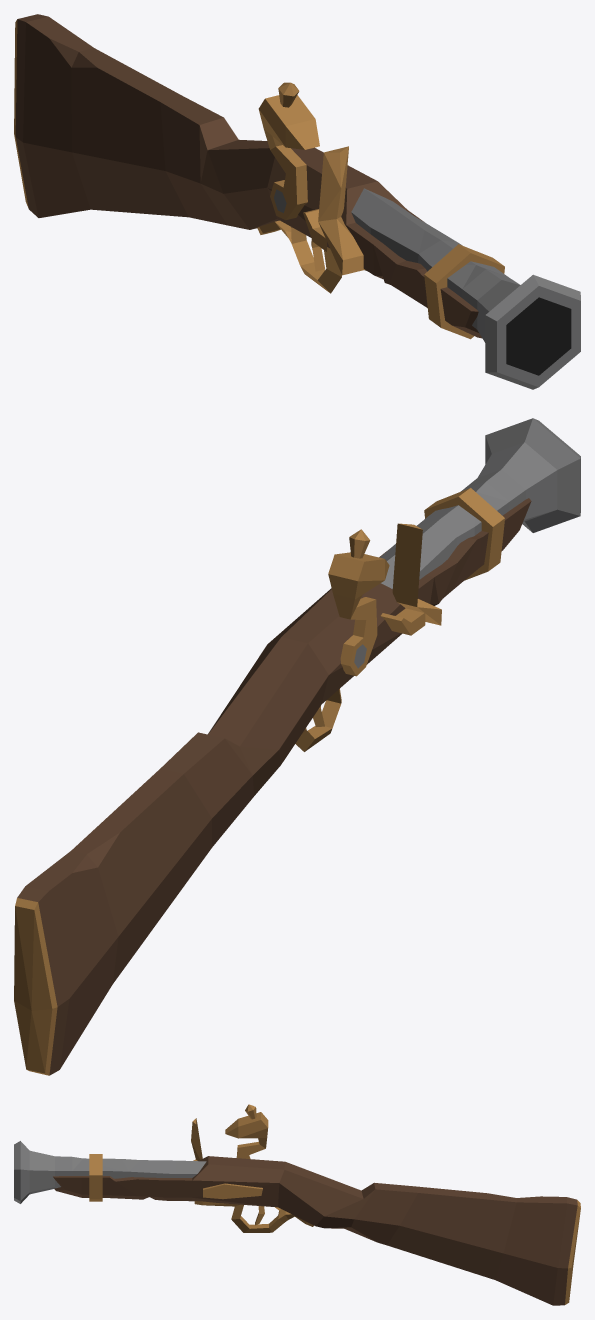
Rendered from SM_Wep_BlunderBuss_02_Separate.glb.
3 views of the same model, one above another, from view 1: azimuth 30°, elevation 25°; view 2: azimuth 150°, elevation 25°; view 3: azimuth 270°, elevation 25° (orthographic). The views are drawn at different scales.
Visible parts, largest first — view 1: SM_Wep_BlunderBuss_02_Trigger; view 2: SM_Wep_BlunderBuss_02_Trigger; view 3: SM_Wep_BlunderBuss_02_Trigger.
Part boxes in pixels (x1,y1,x2,y2): SM_Wep_BlunderBuss_02_Trigger: (14,14,580,389); SM_Wep_BlunderBuss_02_Trigger: (14,418,580,1075); SM_Wep_BlunderBuss_02_Trigger: (14,1104,580,1305).
Size of the model in its own units: 0.000958 by 0.00324 by 0.00878.
